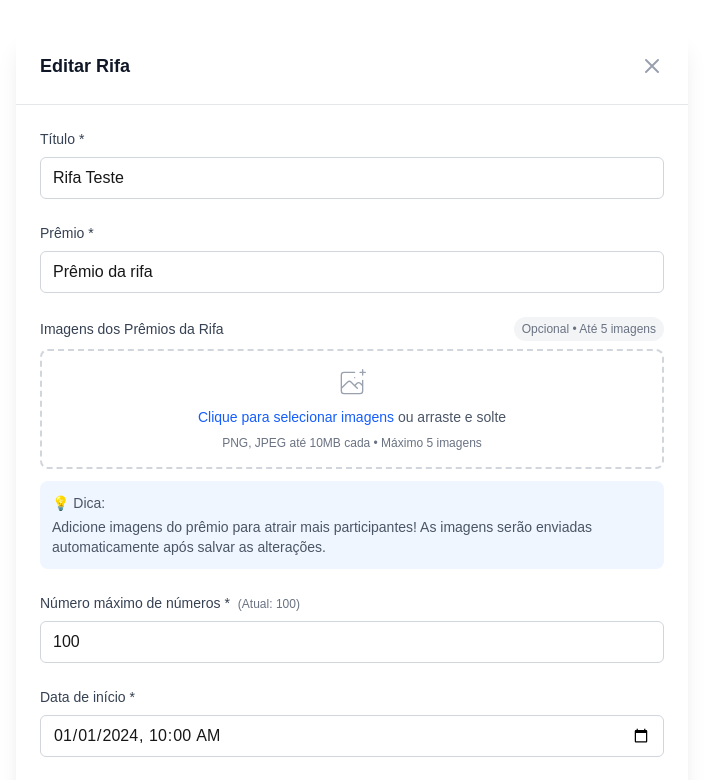
Test: RaffleEditModal - Incremento de Números › deve exibir mensagem de sucesso após incremento bem-sucedido
Replace the text in the number field labelled "Número máximo de números *(Atual: 100)" with "150": (352, 642) [40,621,664,663]
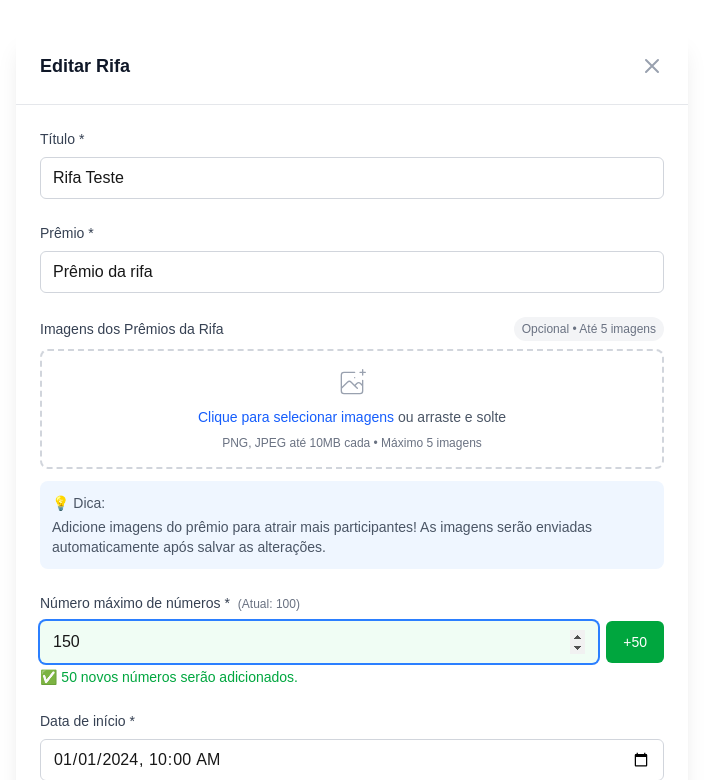
Click the button "+50": click(635, 642) [606,621,664,663]
(page scrolled)
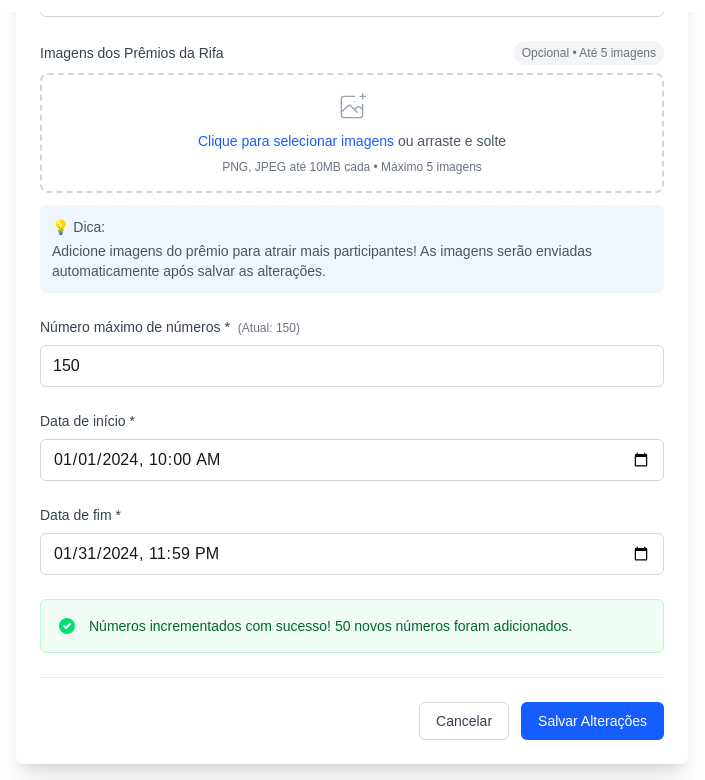
Expected: the text "Números incrementados com sucesso! 50 novos números foram adicionados." is shown, [89,616,572,636]
